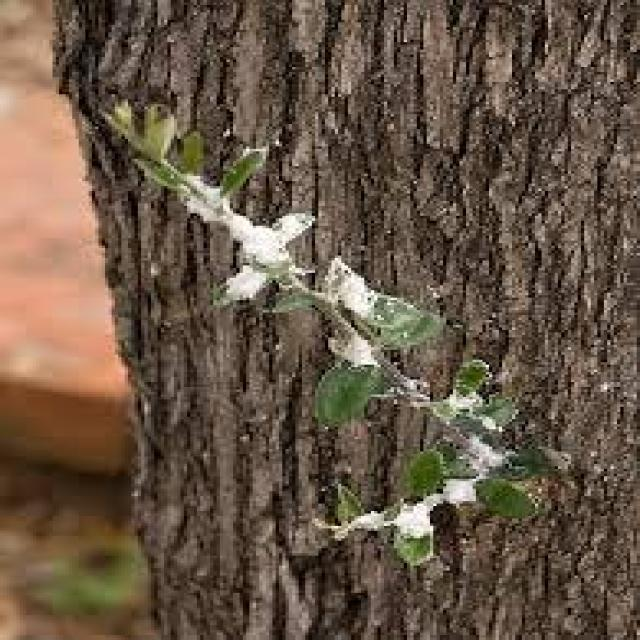Psyllid: (164, 161, 315, 300), (338, 479, 476, 538), (322, 256, 377, 324), (327, 330, 377, 370)
